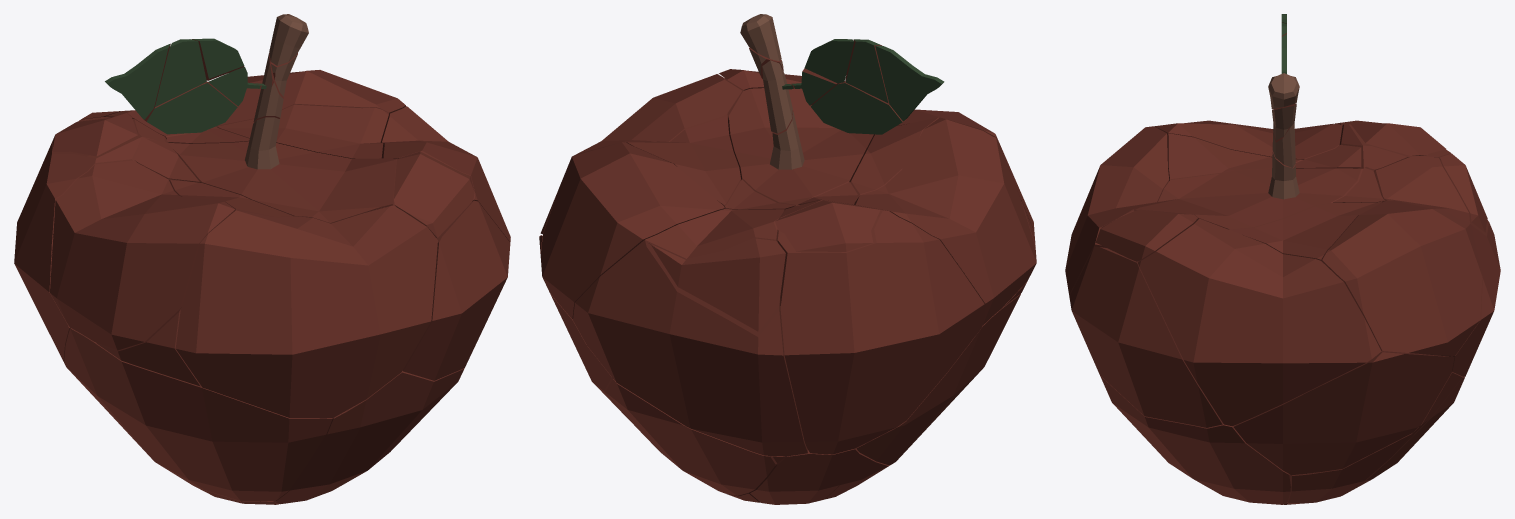
File: Apple.fbx
3 renders of one model, left to right at view 1: azimuth 30°, elevation 25°; view 2: azimuth 150°, elevation 25°; view 3: azimuth 270°, elevation 25°, orthographic. The views are drawn at different scales.
Visible parts, largest first — view 1: Apple_cell.025, Apple_cell.010, Apple_cell.013, Apple_cell.015, Apple_cell.007, Apple_cell.027, Apple_cell.003, Apple_cell.021, Apple_cell, Apple_cell.024, Apple_cell.004, Apple_cell.022 (+11 smaller); view 2: Apple_cell.003, Apple_cell.012, Apple_cell.010, Apple_cell.022, Apple_cell.015, Apple_cell.026, Apple_cell.020, Apple_cell.024, Apple_cell.013, Apple_cell.021, Apple_cell.029, Apple_cell.005 (+16 smaller); view 3: Apple_cell.024, Apple_cell.022, Apple_cell.008, Apple_cell.007, Apple_cell.027, Apple_cell.015, Apple_cell.025, Apple_cell.012, Apple_cell.021, Apple_cell.010, Apple_cell.018, Apple_cell (+11 smaller).
Part boxes in pixels (x1,y1,x2,y2): Apple_cell.025: (175,205,437,418); Apple_cell.010: (50,160,234,350); Apple_cell.013: (64,328,332,501); Apple_cell.015: (166,141,397,223); Apple_cell.007: (403,200,510,380); Apple_cell.027: (275,368,464,504); Apple_cell.003: (14,117,168,361); Apple_cell.021: (217,104,388,158); Apple_cell: (393,151,474,237); Apple_cell.024: (380,106,510,242); Apple_cell.004: (96,178,292,386); Apple_cell.022: (216,70,405,126); Apple_cell.003: (777,200,984,454); Apple_cell.012: (573,208,807,456); Apple_cell.010: (854,117,1036,324); Apple_cell.022: (540,142,724,319); Apple_cell.015: (728,88,873,206); Apple_cell.026: (648,238,785,331); Apple_cell.020: (605,379,775,495); Apple_cell.024: (540,74,743,234); Apple_cell.013: (856,293,1020,465); Apple_cell.021: (624,115,740,208); Apple_cell.029: (775,200,880,251); Apple_cell.005: (750,448,858,504); Apple_cell.024: (1138,218,1381,426); Apple_cell.022: (1322,200,1482,355); Apple_cell.008: (1233,351,1454,475); Apple_cell.007: (1069,246,1222,427); Apple_cell.027: (1100,375,1290,504); Apple_cell.015: (1135,168,1362,229); Apple_cell.025: (1065,126,1169,295); Apple_cell.012: (1374,156,1500,376); Apple_cell.021: (1229,201,1382,261); Apple_cell.010: (1154,120,1342,159); Apple_cell.018: (1287,372,1461,503); Apple_cell: (1095,209,1197,261).
Bounding box in the file's own units: 80.25 × 85.17 × 79.87.
